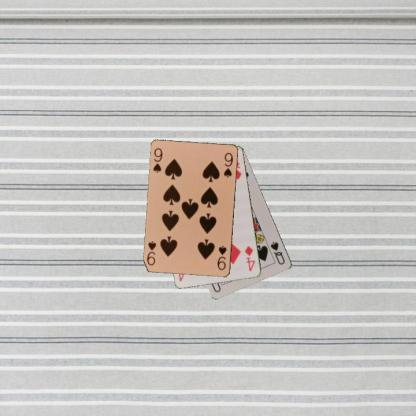4d: (242, 244, 257, 272)
9s: (214, 243, 229, 272), (150, 146, 164, 174)
Qs: (268, 239, 287, 266)
